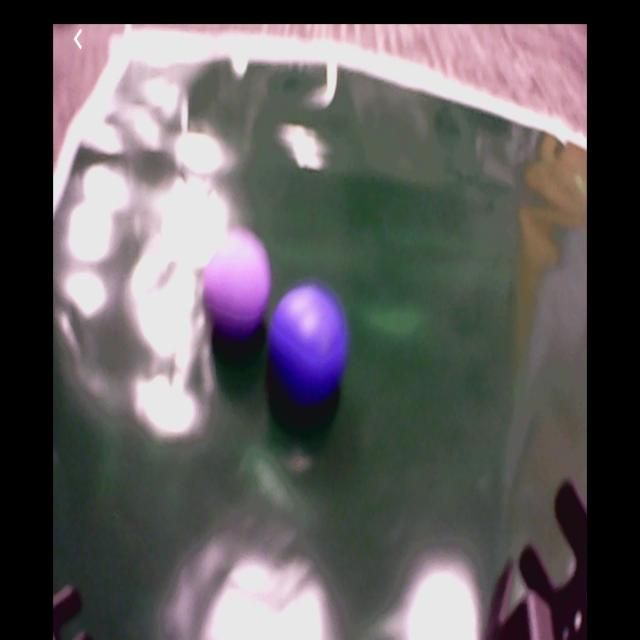ball: (273, 284, 349, 406), (203, 227, 271, 333)
